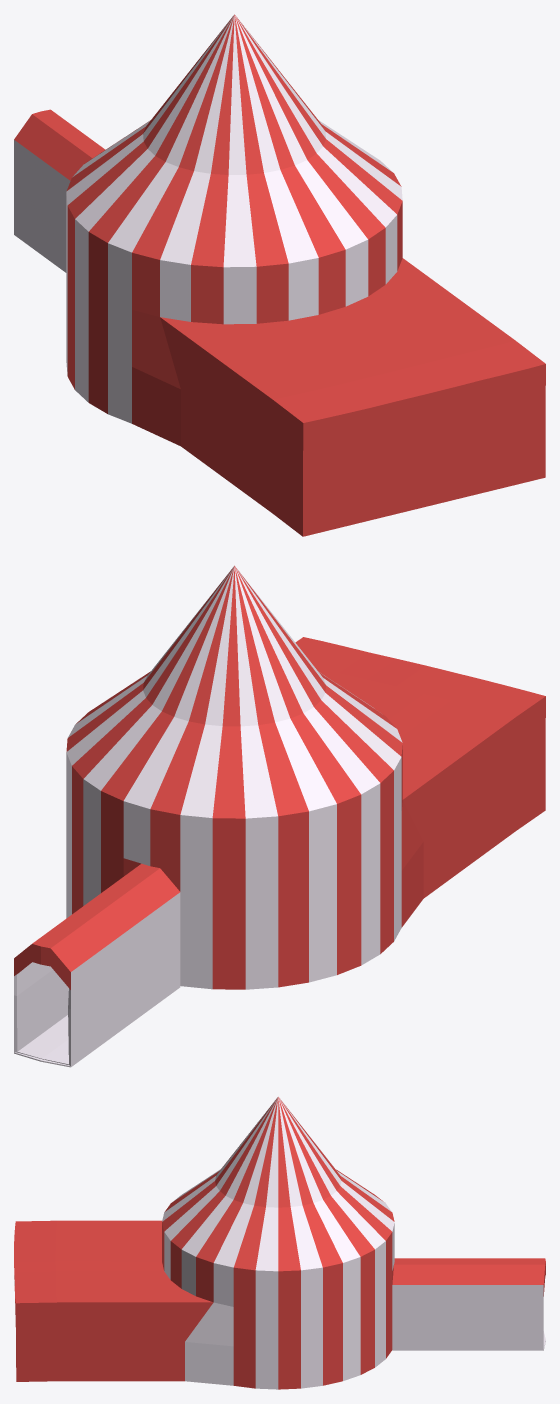
The model's file is BigtopTestPlaceholder1.fbx.
3 views of the same model, one above another, from view 1: azimuth 30°, elevation 25°; view 2: azimuth 150°, elevation 25°; view 3: azimuth 270°, elevation 25° (orthographic). The views are drawn at different scales.
Visible parts, largest first — view 1: BigTop; view 2: BigTop; view 3: BigTop.
Boxes of the visible parts, box(x1,y1,x2,y2) form: BigTop: box(14, 14, 545, 536); BigTop: box(14, 565, 545, 1067); BigTop: box(14, 1096, 545, 1389).
Size of the model in its own units: 200 by 232 by 457.
